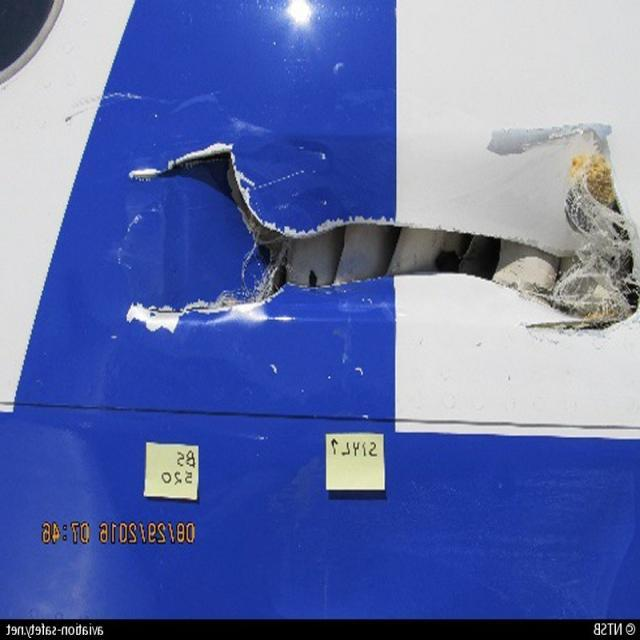crack: (121, 295, 228, 328)
